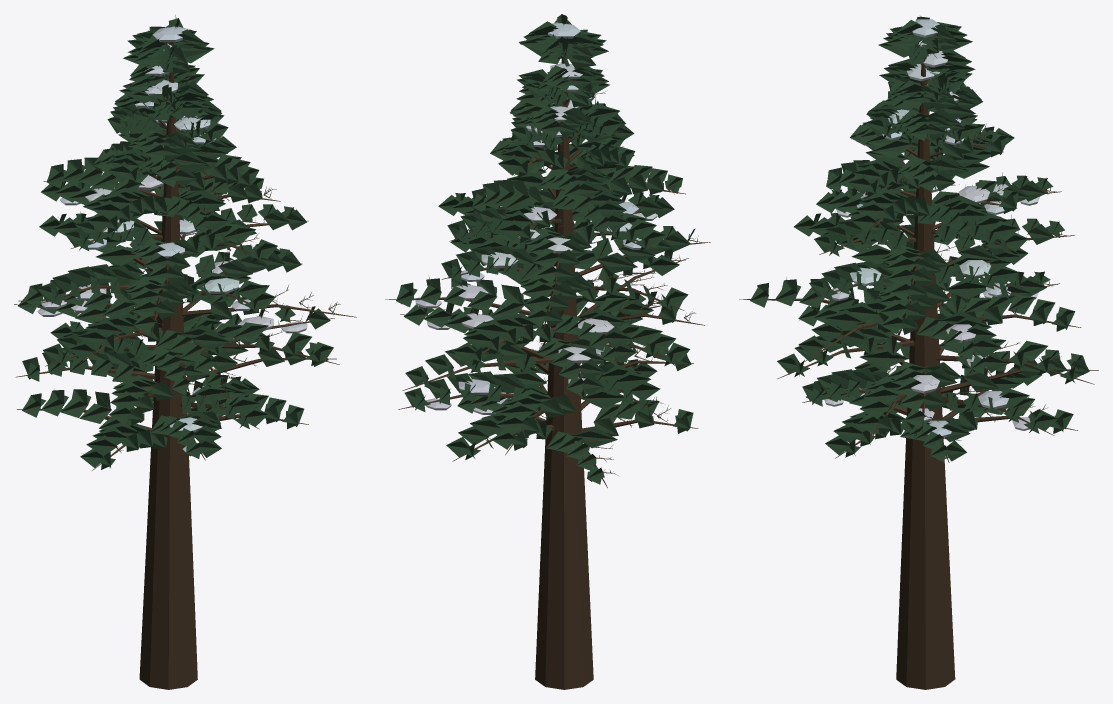
The model's file is pc_pine_1_lod0.glb.
3 renders of one model, left to right at view 1: azimuth 30°, elevation 25°; view 2: azimuth 150°, elevation 25°; view 3: azimuth 270°, elevation 25°, orthographic.
Parts seen in each view (by area): view 1: pc_pine_1_lod0; view 2: pc_pine_1_lod0; view 3: pc_pine_1_lod0.
Part boxes in pixels (x1=…): pc_pine_1_lod0: x1=14, y1=15, x2=356, y2=689; pc_pine_1_lod0: x1=385, y1=14, x2=710, y2=689; pc_pine_1_lod0: x1=739, y1=16, x2=1098, y2=689.
Size of the model in its own units: 4.97 by 10.68 by 5.28.
